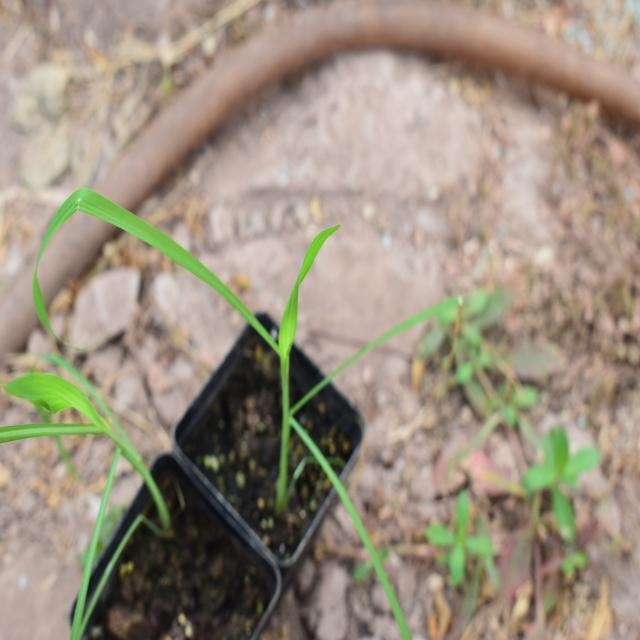barnyard_grass: (21, 144, 398, 588)
